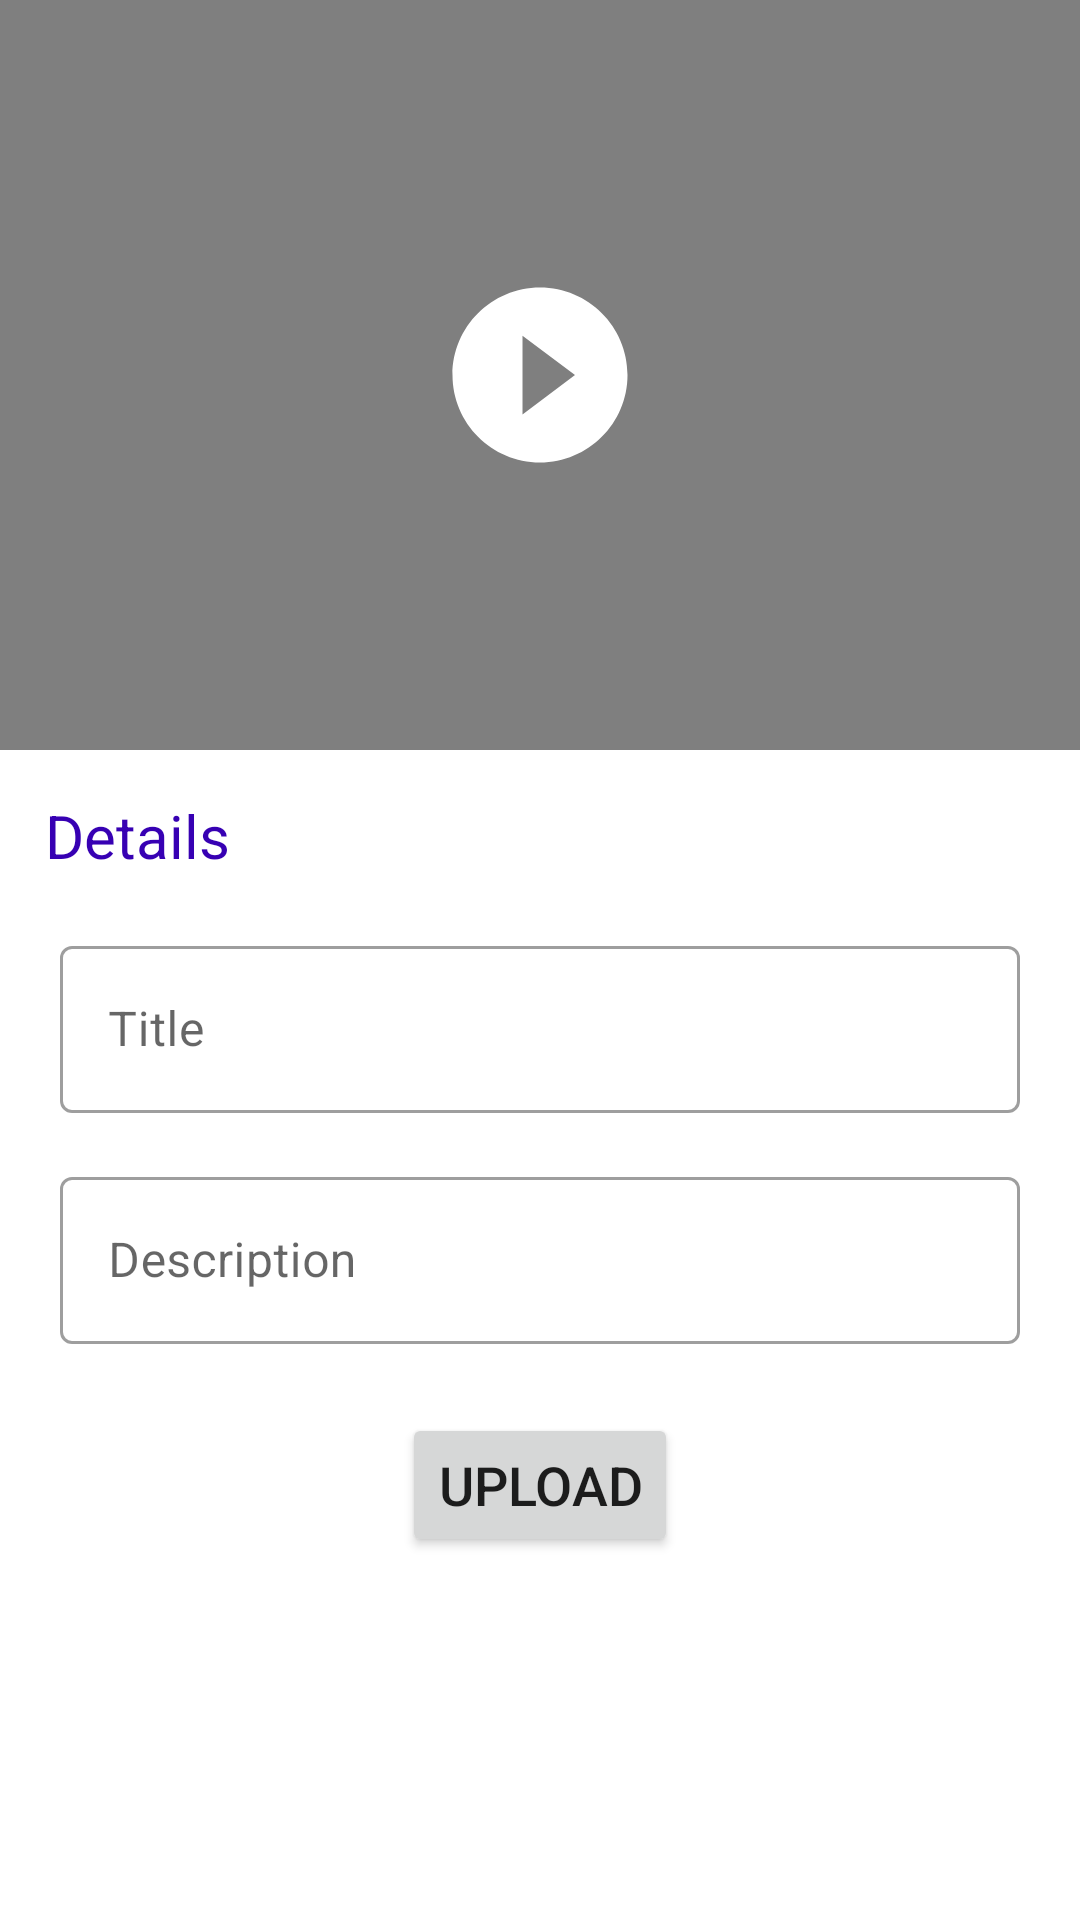

Where icons sit on this 1080w x 1920h app screen, as (x1=x1, y1=y1, x2=x2, y2=y2):
play: (x1=452, y1=287, x2=628, y2=463)
